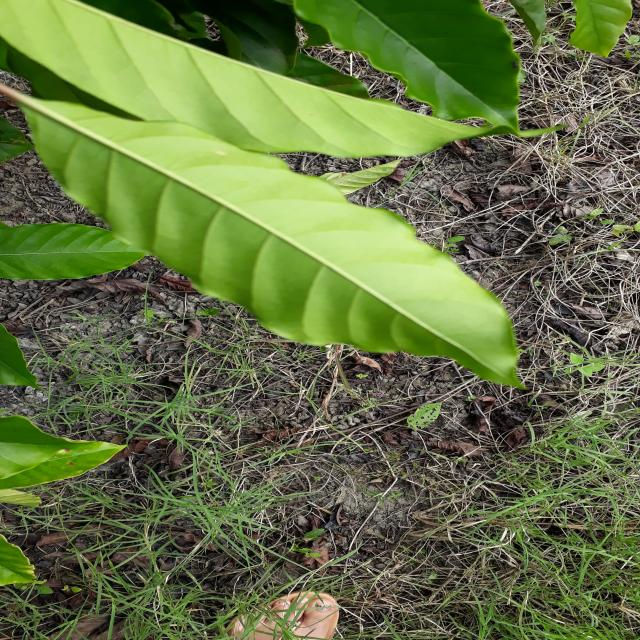Sanas: (0, 88, 521, 389)
